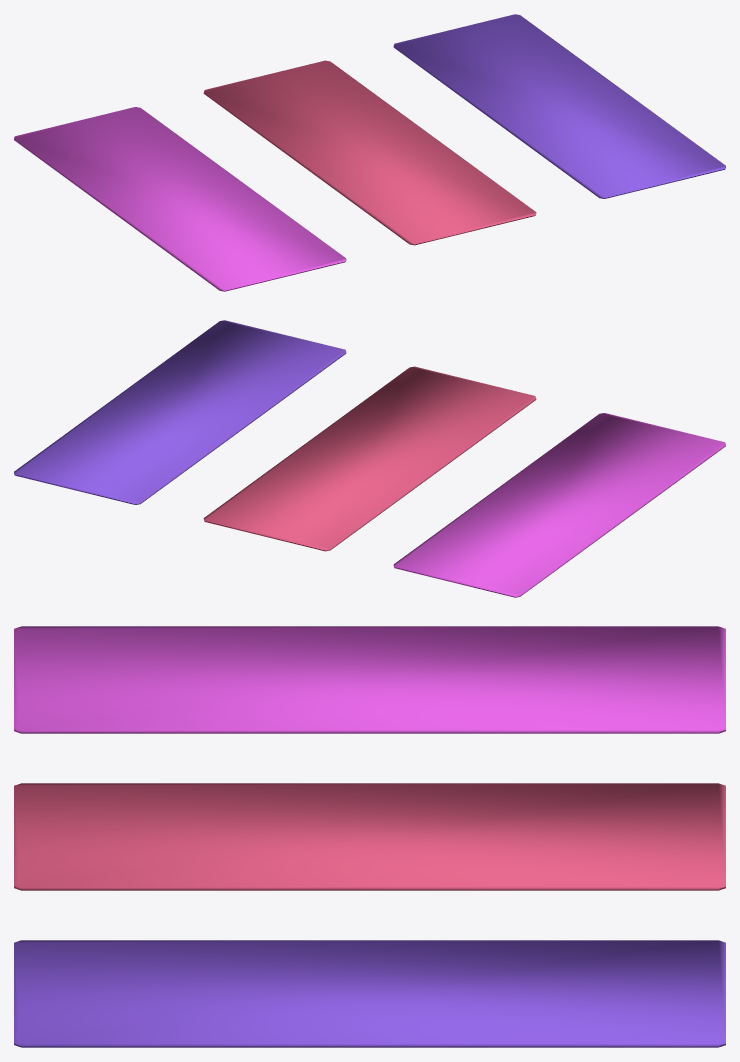
File: yoga_mat.glb
3 renders of one model, top to bottom at view 1: azimuth 30°, elevation 25°; view 2: azimuth 150°, elevation 25°; view 3: azimuth 270°, elevation 25°, orthographic. The views are drawn at different scales.
Visible parts, largest first — view 1: Plane_0.002; view 2: Plane_0.002; view 3: Plane_0.002.
Boxes of the visible parts, x1,y1,x2,y2 form: Plane_0.002: (14,14,725,291); Plane_0.002: (14,320,725,597); Plane_0.002: (14,626,725,1047).
Bounding box in the file's own units: 5.31 × 0.016 × 3.82.
Materials: 3 (3 with a texture image).
